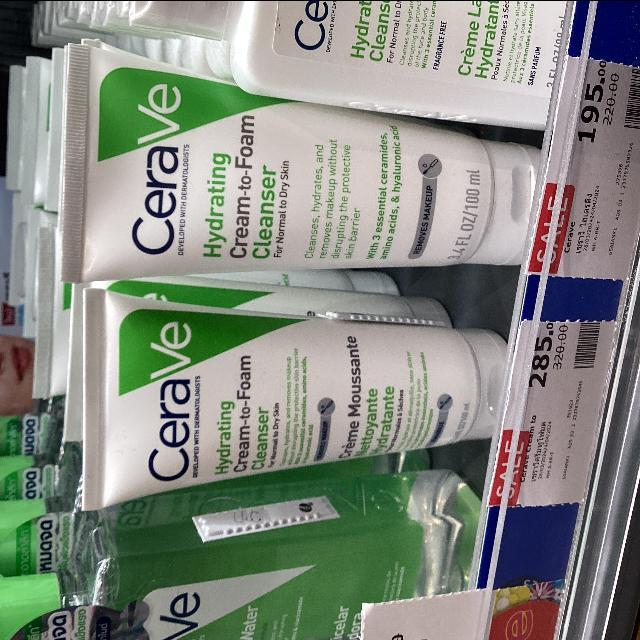Squeeze Tube: (3, 0, 640, 640), (59, 44, 537, 299), (80, 286, 505, 509)
